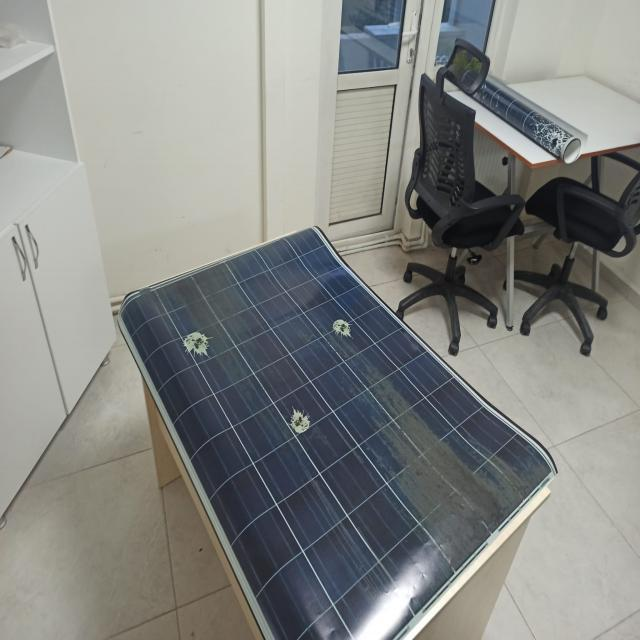faulty: (117, 225, 562, 640)
